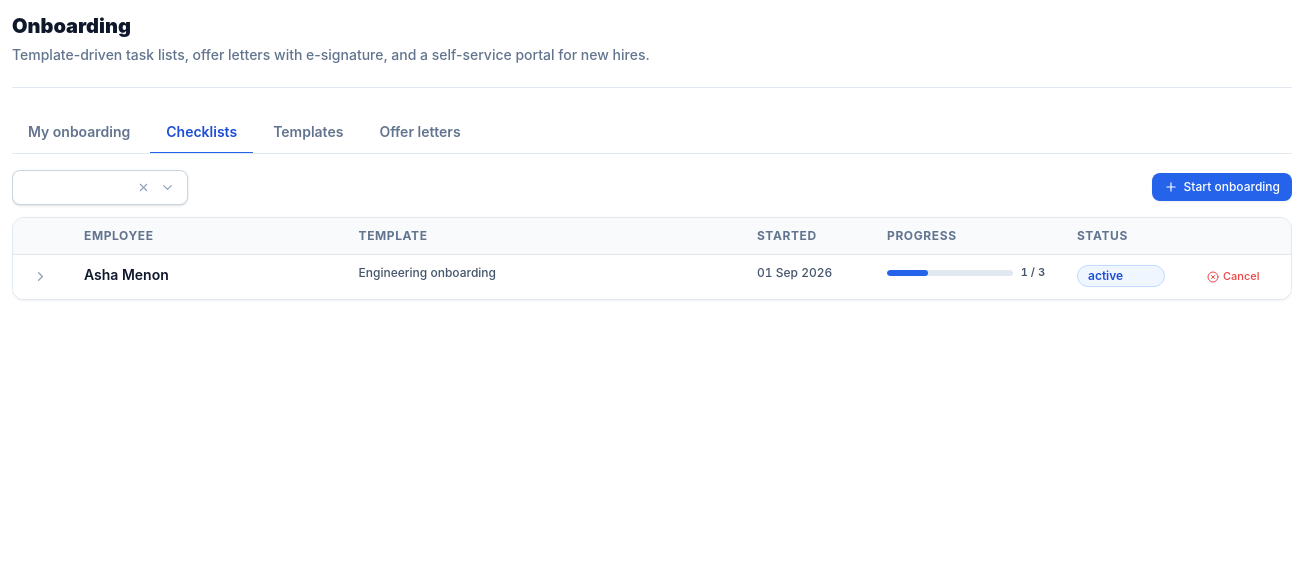
checklists › expands a checklist to reveal its tasks and their assignees
Click the button named "Show tasks for Asha Menon" at coordinates (40, 276), box [29,265,52,288]
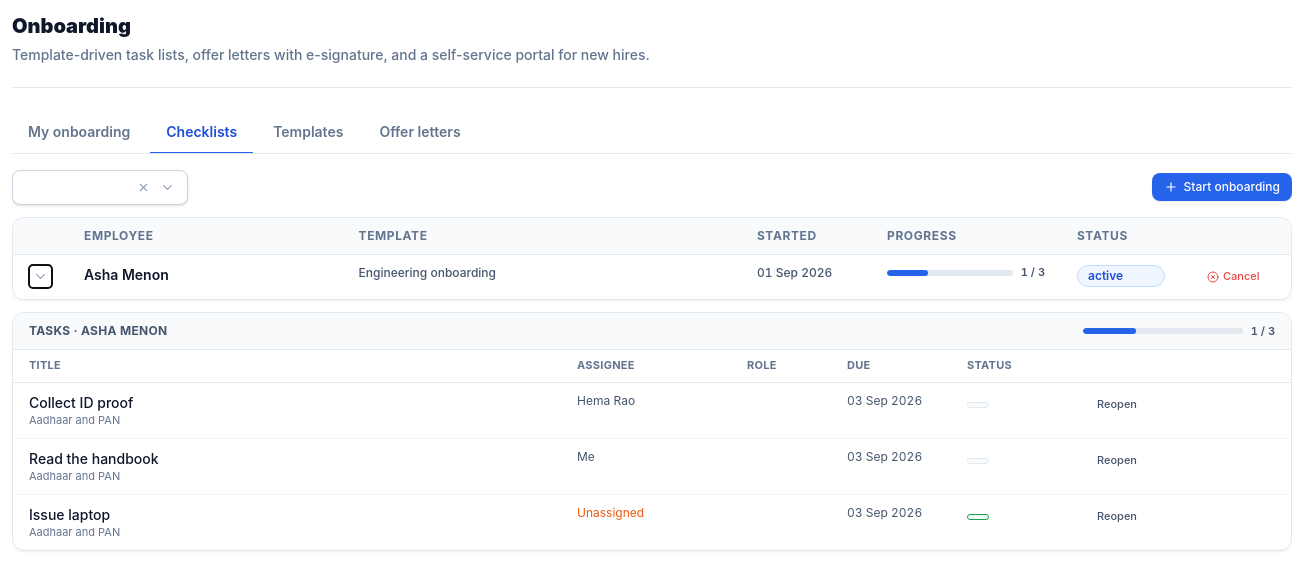
Now the text "Hema Rao" is shown, box [561,382,731,439]
Now the text "Unassigned" is shown, box [577,505,644,520]
